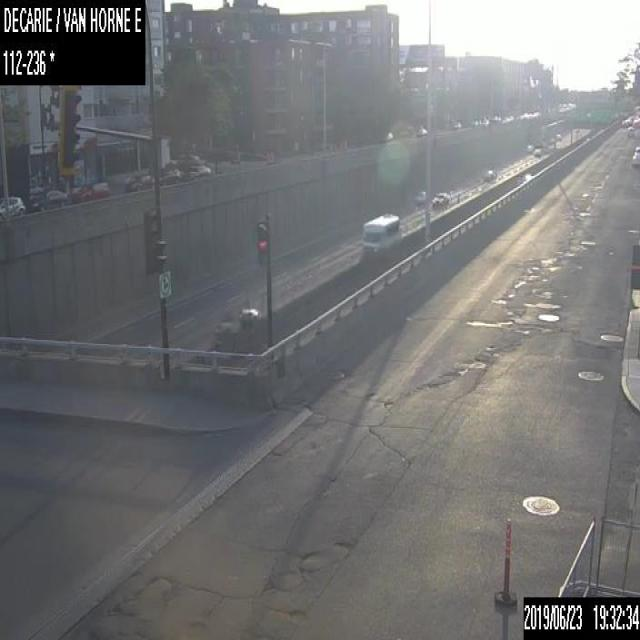bus: (361, 209, 400, 256)
construction: (493, 515, 520, 604)
vehicle: (211, 304, 239, 340), (70, 182, 108, 206), (28, 188, 66, 210), (123, 170, 156, 190), (182, 162, 210, 184), (0, 196, 25, 219), (161, 164, 183, 183), (432, 189, 448, 208), (239, 306, 258, 322), (412, 189, 424, 207), (377, 129, 392, 143), (482, 167, 497, 180), (630, 146, 639, 166), (413, 124, 427, 135), (532, 147, 540, 156), (525, 143, 533, 151)
